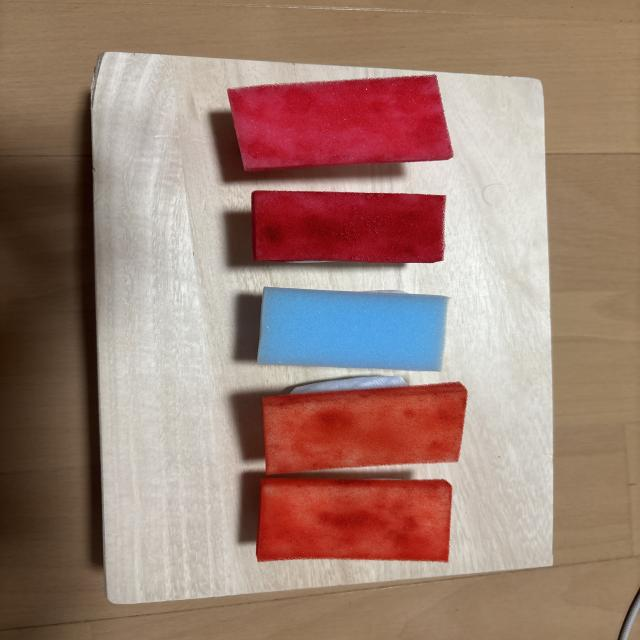ika: (258, 287, 448, 371)
maguro: (228, 75, 452, 171), (251, 190, 446, 263)
salmon: (262, 376, 467, 475), (257, 478, 452, 562)
